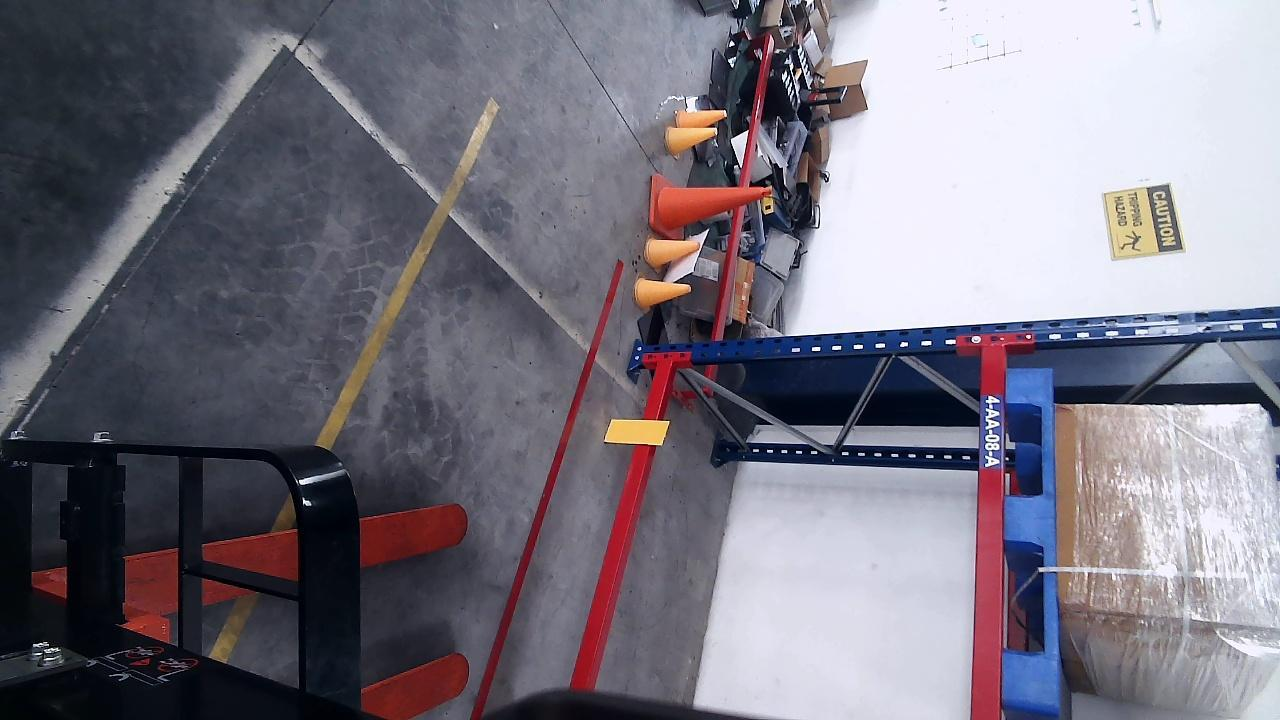h_rack: (571, 365, 671, 688), (970, 343, 1005, 719)
orange_strip: (603, 417, 668, 445)
red_line: (469, 255, 627, 718)
small_pallet: (1000, 367, 1058, 705)
yellow_line: (314, 94, 501, 453)
